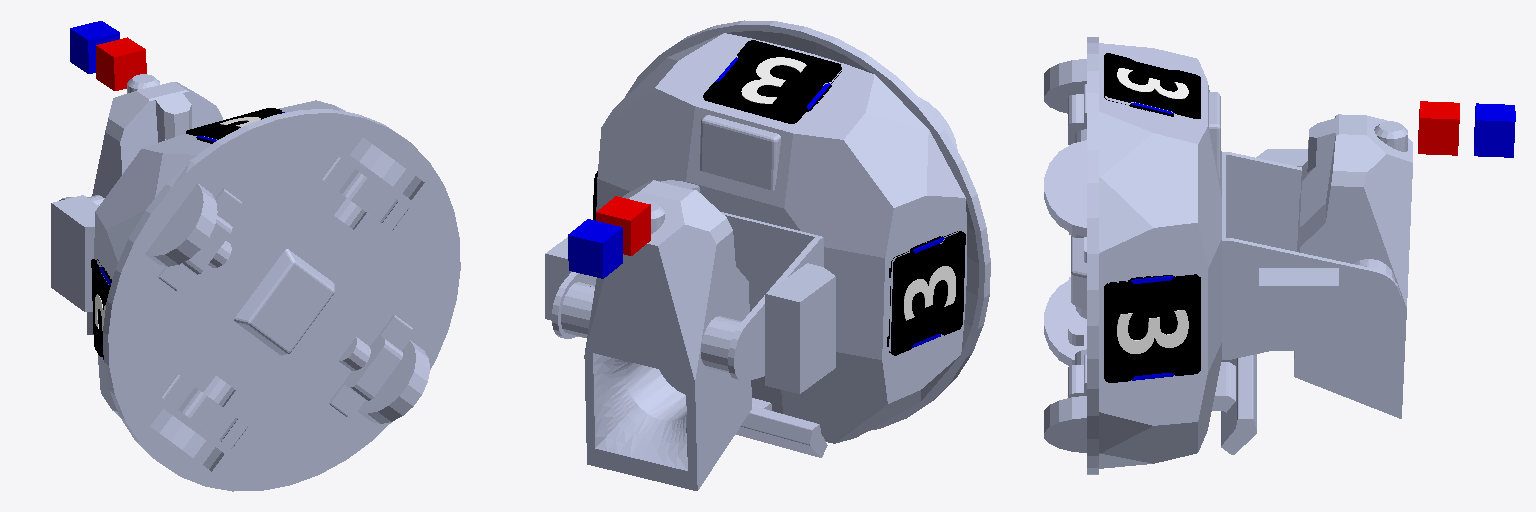
robot.urdf — infantry:
<?xml version="1.0" encoding="utf-8"?>
<!-- This URDF was automatically created by SolidWorks to URDF Exporter! Originally created by
[author] ([email redacted]) 
     Commit Version: 1.6.0-4-g7f85cfe  Build Version: 1.6.7995.38578
     For more information, please see http://wiki.ros.org/sw_urdf_exporter -->
<robot
    name="infantry">


    <link name="root">
        <inertial>
            <mass value="0" />
            <inertia ixx="0.00" ixy="0.00" ixz="0.00" iyy="0.00" iyz="0.00" izz="0.00" />
        </inertial>
    </link>
    <link name="root_base_1_link_1">
        <inertial>
            <mass value="0" />
            <inertia ixx="0.00" ixy="0.00" ixz="0.00" iyy="0.00" iyz="0.00" izz="0.00" />
        </inertial>
    </link>
    <link name="root_base_1_link_2">
        <inertial>
            <mass value="0" />
            <inertia ixx="0.00" ixy="0.00" ixz="0.00" iyy="0.00" iyz="0.00" izz="0.00" />
        </inertial>
    </link>
    <joint name="root_z_axis_joint" type="prismatic">
        <parent link="root" />
        <child link="root_base_1_link_1" />
        <axis xyz="0 0 1" />
        <limit effort="100" lower="-20" upper="20" velocity="0.50" />
        <dynamics damping="10.0" friction="10" />
    </joint>
    <joint name="root_x_axis_joint" type="prismatic">
        <parent link="root_base_1_link_1" />
        <child link="root_base_1_link_2" />
        <axis xyz="1 0 0" />
        <limit effort="100" lower="-20" upper="20" velocity="0.50" />
        <dynamics damping="10.0" friction="10" />
    </joint>
    <joint name="root_y_rotation_joint" type="continuous">
        <parent link="root_base_1_link_2" />
        <child link="base_link" />
        <axis xyz="0 1 0" />
        <dynamics damping="10.0" friction="1" />
    </joint>


    <link
        name="base_link">
        <inertial>
            <origin
                xyz="6.06925946495807E-05 -0.0951517381837546 -0.00195378661860102"
                rpy="0 0 0" />
            <mass
                value="31.9580603600281" />
            <inertia
                ixx="0.575658821423168"
                ixy="-0.000232623478846163"
                ixz="0.000372103192936311"
                iyy="0.975286073242314"
                iyz="0.00748853471499854"
                izz="0.562657367224856" />
        </inertial>
        <visual>
            <origin
                xyz="0 0 0"
                rpy="0 0 0" />
            <geometry>
                <mesh
                    filename="package://infantry/meshes/base_link.STL" />
            </geometry>
            <material
                name="base_link">
                <!-- yellow: 0.984 0.737 0.020 1" -->
                <color
                    rgba="0.79216 0.81961 0.93333  1" />
            </material>
        </visual>
        <collision>
            <origin
                xyz="0 -0.17 0"
                rpy="1.57 0 0" />
            <geometry>
                <cylinder radius="0.28" length="0.002" />
            </geometry>
        </collision>
    </link>
    <link
        name="mount_link">
        <inertial>
            <origin
                xyz="-0.010489 0.09779 -1.1047E-09"
                rpy="0 0 0" />
            <mass
                value="2.1267" />
            <inertia
                ixx="0.0095801"
                ixy="-7.7406E-05"
                ixz="2.458E-11"
                iyy="0.041997"
                iyz="-7.3513E-10"
                izz="0.046704" />
        </inertial>
        <visual>
            <origin
                xyz="0 0 0"
                rpy="0 0 0" />
            <geometry>
                <mesh
                    filename="package://infantry/meshes/mount_link.STL" />
            </geometry>
            <material
                name="mount_link">
                <color
                    rgba="0.79216 0.81961 0.93333 1" />
            </material>
        </visual>
    </link>
    <joint
        name="yaw_joint"
        type="continuous">
        <origin
            xyz="0 0 0"
            rpy="0 0 0" />
        <parent
            link="base_link" />
        <child
            link="mount_link" />
        <axis
            xyz="0 1 0" />
    </joint>
    <link
        name="turret_link">
        <inertial>
            <origin
                xyz="-2.0482E-05 -0.019429 0.0081579"
                rpy="0 0 0" />
            <mass
                value="5.2999" />
            <inertia
                ixx="0.053074"
                ixy="5.1204E-07"
                ixz="-3.5196E-05"
                iyy="0.057288"
                iyz="-0.00072947"
                izz="0.019007" />
        </inertial>
        <visual>
            <origin
                xyz="0 0 0"
                rpy="0 0 0" />
            <geometry>
                <mesh
                    filename="package://infantry/meshes/turret_link.STL" />
            </geometry>
            <material
                name="turret_link">
                <color
                    rgba="0.79216 0.81961 0.93333 1" />
            </material>
        </visual>
    </link>
    <joint
        name="pitch_joint"
        type="revolute">
        <origin
            xyz="0 0.1845 0"
            rpy="-0.042847 0 0" />
        <parent
            link="mount_link" />
        <child
            link="turret_link" />
        <axis
            xyz="1 0 0" />
        <limit
            lower="-1.7"
            upper="1.7"
            effort="0"
            velocity="0" />
    </joint>
    <link name="camera_link">
        <visual>
            <geometry>
                <box size="0.05 0.05 0.05" />
            </geometry>
            <material name="debug_color">
                <color rgba="0.98 0 0 1" />
            </material>
        </visual>
    </link>
    <joint
        name="camera_joint"
        type="fixed">
        <parent link="turret_link" />
        <child link="camera_link" />
        <!-- TODO make this more exact -->
        <origin xyz="0 0.08 0.18" rpy="-1.57 -1.57 0" />
    </joint>

    <link name="lidar_link">
        <visual>
            <geometry>
                <box size="0.05 0.05 0.05" />
            </geometry>
            <material name="lidar_color">
                <color rgba="0 0 1 1" />
            </material>
        </visual>
    </link>
    <joint
        name="lidar_joint"
        type="fixed">
        <parent link="turret_link" />
        <child link="lidar_link" />
        <!-- TODO make this more exact -->
        <origin xyz="0 0.15 0.18" rpy="0 0 -1.57" />
    </joint>

    <link
        name="plates_link">
        <inertial>
            <origin
                xyz="0 0 0"
                rpy="0 0 0" />
            <mass
                value="0" />
            <inertia
                ixx="0"
                ixy="0"
                ixz="0"
                iyy="0"
                iyz="0"
                izz="0" />
        </inertial>
        <visual>
            <origin
                xyz="0 0 0"
                rpy="0 0 0" />
            <geometry>
                <mesh
                    filename="package://infantry/meshes/plates_link.STL" />
            </geometry>
            <material
                name="plates_link">
                <color
                    rgba="0 0 0 1" />
            </material>
        </visual>
        <collision>
            <origin
                xyz="0 0 0"
                rpy="0 0 0" />
            <geometry>
                <mesh
                    filename="package://infantry/meshes/plates_link.STL" />
            </geometry>
        </collision>
    </link>
    <joint
        name="plates_joint"
        type="fixed">
        <origin
            xyz="-0.25574 -0.14582 -0.05297"
            rpy="3.1336 0.029996 2.8797" />
        <parent
            link="base_link" />
        <child
            link="plates_link" />
        <axis
            xyz="0 0 0" />
    </joint>
    <link
        name="lightbars_link">
        <visual>
            <origin
                xyz="0 0 0"
                rpy="0 0 0" />
            <geometry>
                <mesh
                    filename="package://infantry/meshes/lightbars_link.STL" />
            </geometry>
            <material
                name="lightbars_link">
                <color
                    rgba="0 0 1 1" />
            </material>
        </visual>
    </link>
    <joint
        name="lightbars_joint"
        type="fixed">
        <origin
            xyz="0 0.12792 -0.090009"
            rpy="-3.1416 0 0" />
        <parent
            link="plates_link" />
        <child
            link="lightbars_link" />
        <axis
            xyz="0 0 0" />
    </joint>
    <link
        name="numbers_link">

        <visual>
            <origin
                xyz="-0.236 -0.095 -0.002"
                rpy="0 3.1415 -0.26" />
            <geometry>
                <mesh
                    filename="package://infantry/meshes/numbers_link.STL" />
            </geometry>
            <material
                name="numbers_link">
                <color
                    rgba="1 1 1 1" />
            </material>
        </visual>

        <visual>
            <origin
                xyz="0.002 -0.095 -0.236"
                rpy=" 1.5716 1.3108 1.5716 " />
            <geometry>
                <mesh
                    filename="package://infantry/meshes/numbers_link.STL" />
            </geometry>
            <material
                name="numbers_link">
                <color
                    rgba="1 1 1 1" />
            </material>
        </visual>

        <visual>
            <origin
                xyz="0.236 -0.095 0.002"
                rpy="0 0 0.26" />
            <geometry>
                <mesh
                    filename="package://infantry/meshes/numbers_link.STL" />
            </geometry>
            <material
                name="numbers_link">
                <color
                    rgba="1 1 1 1" />
            </material>
        </visual>

        <visual>
            <origin
                xyz="-0.002 -0.095 0.236"
                rpy="-1.5716 -1.3108 1.5716" />
            <geometry>
                <mesh
                    filename="package://infantry/meshes/numbers_link.STL" />
            </geometry>
            <material
                name="numbers_link">
                <color
                    rgba="1 1 1 1" />
            </material>
        </visual>
    </link>
    <joint
        name="numbers_joint"
        type="fixed">
        <origin
            xyz="0 0 0"
            rpy="0 0 0" />
        <parent
            link="base_link" />
        <child
            link="numbers_link" />
        <axis
            xyz="0 0 0" />
    </joint>
</robot>

--- Render facts (derived) ---
Views: 3 orthographic renders of the robot side by side, from view 1: azimuth 30°, elevation 25°; view 2: azimuth 150°, elevation 25°; view 3: azimuth 270°, elevation 25°.
Robot: infantry — 11 links, 10 joints (1 revolute, 2 continuous, 2 prismatic, 5 fixed); root link root; default pose: all joints at 0.
Links seen in each view (by area): view 1: base_link, turret_link, mount_link, camera_link, plates_link, lidar_link; view 2: base_link, turret_link, mount_link, plates_link, lidar_link, numbers_link, camera_link; view 3: base_link, mount_link, turret_link, plates_link, numbers_link, camera_link, lidar_link.
Link boxes in pixels (x1,y1,x2,y2): base_link: [94, 100, 460, 491]; turret_link: [87, 74, 222, 334]; mount_link: [51, 195, 104, 311]; camera_link: [96, 37, 146, 90]; plates_link: [91, 108, 282, 358]; lidar_link: [70, 21, 119, 73]; base_link: [596, 20, 990, 457]; turret_link: [584, 180, 751, 490]; mount_link: [545, 212, 835, 393]; plates_link: [593, 40, 965, 355]; lidar_link: [568, 219, 622, 278]; numbers_link: [741, 57, 955, 320]; camera_link: [596, 196, 650, 255]; base_link: [1044, 37, 1256, 474]; mount_link: [1222, 149, 1400, 359]; turret_link: [1294, 114, 1412, 418]; plates_link: [1104, 53, 1200, 382]; numbers_link: [1117, 68, 1188, 353]; camera_link: [1418, 101, 1459, 155]; lidar_link: [1474, 103, 1515, 157].
Bounding box of the posed robot: 0.5493 × 0.5905 × 0.5497 m (x, y, z).
9 mesh visuals loaded from 6 distinct referenced files (6 binary STL).